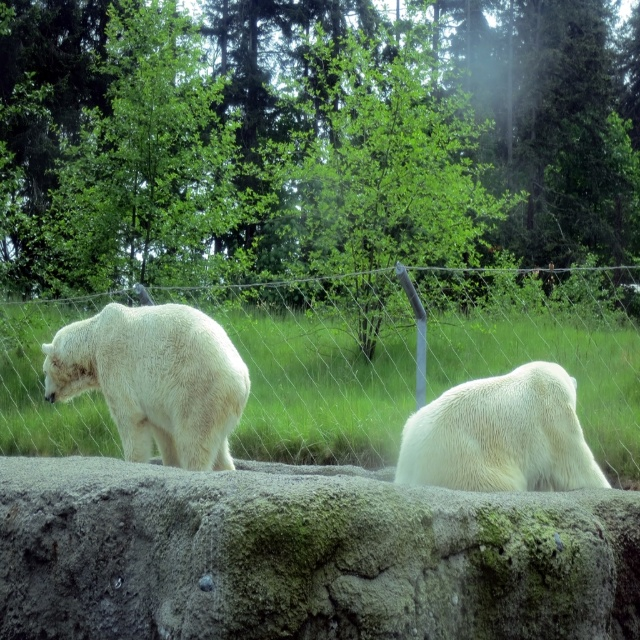Polar bear: (41, 302, 250, 473), (395, 360, 608, 488)
